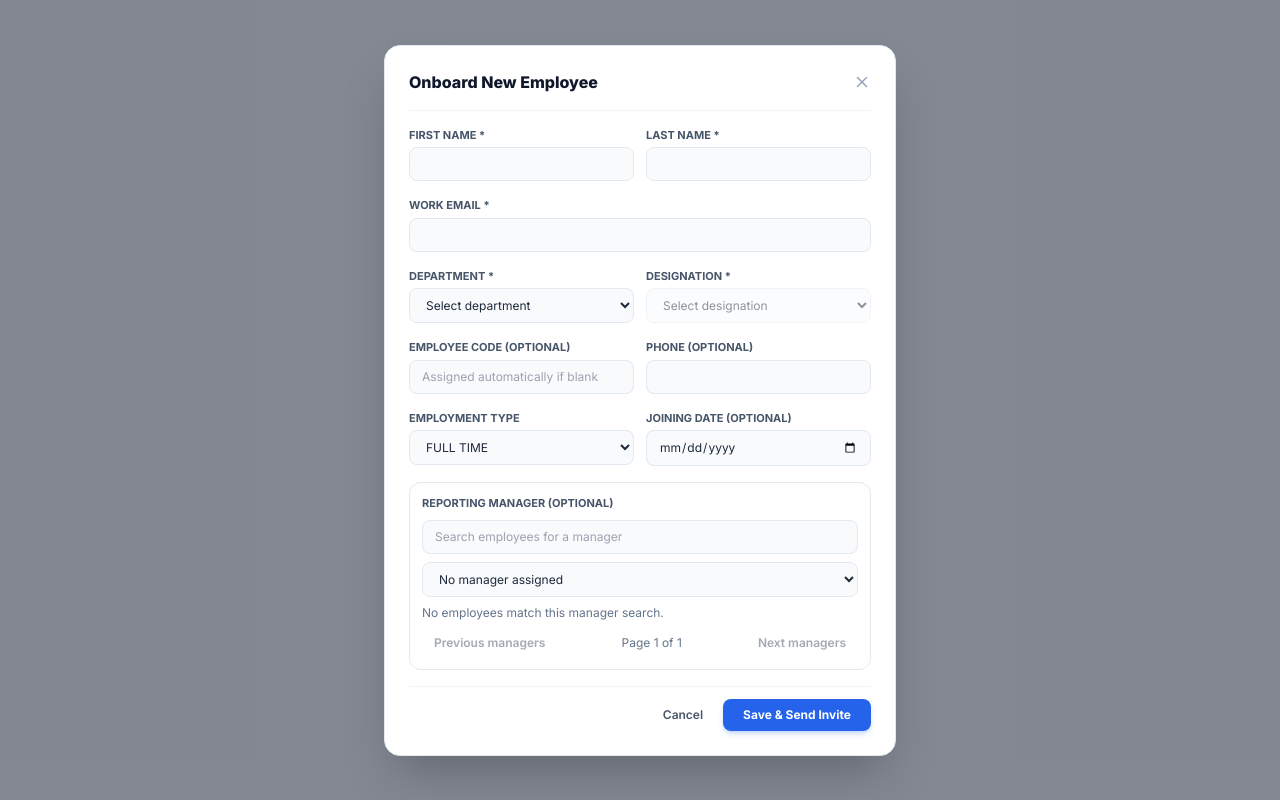
Test: Employee creation and invitation (mocked HTTP) › posts real lookup IDs, normalizes input, locks duplicate submissions and waits for confirmation
Type " New " into the field labelled "First Name *".
click(522, 164); type(" New ")  # box [409,147,634,181]
Type "Person" into the field labelled "Last Name *".
click(758, 164); type("Person")  # box [646,147,871,181]
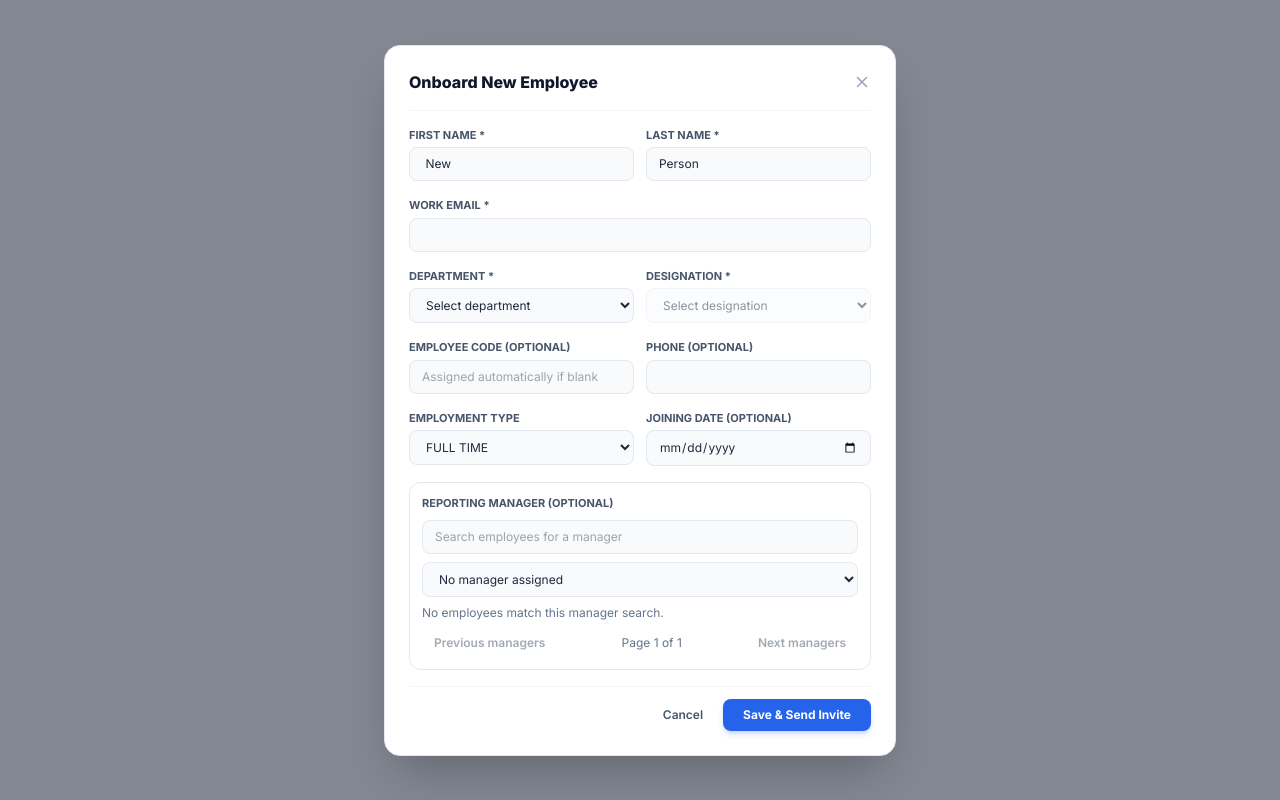
Type "NEW@example.com" into the field labelled "Work Email *".
click(640, 234); type("NEW@example.com")  # box [409,218,871,252]
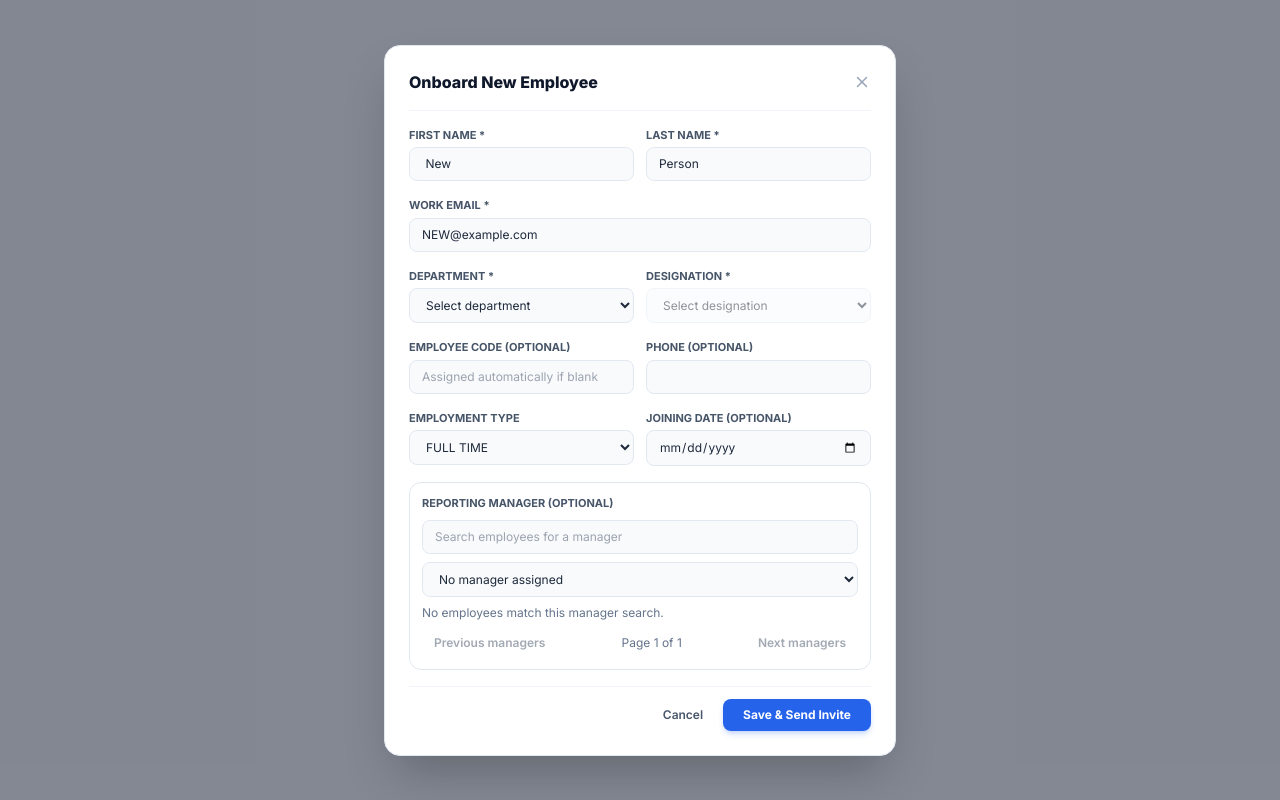
Select "Engineering" in the dropdown labelled "Department *" at (522, 306), box [409,288,634,323]
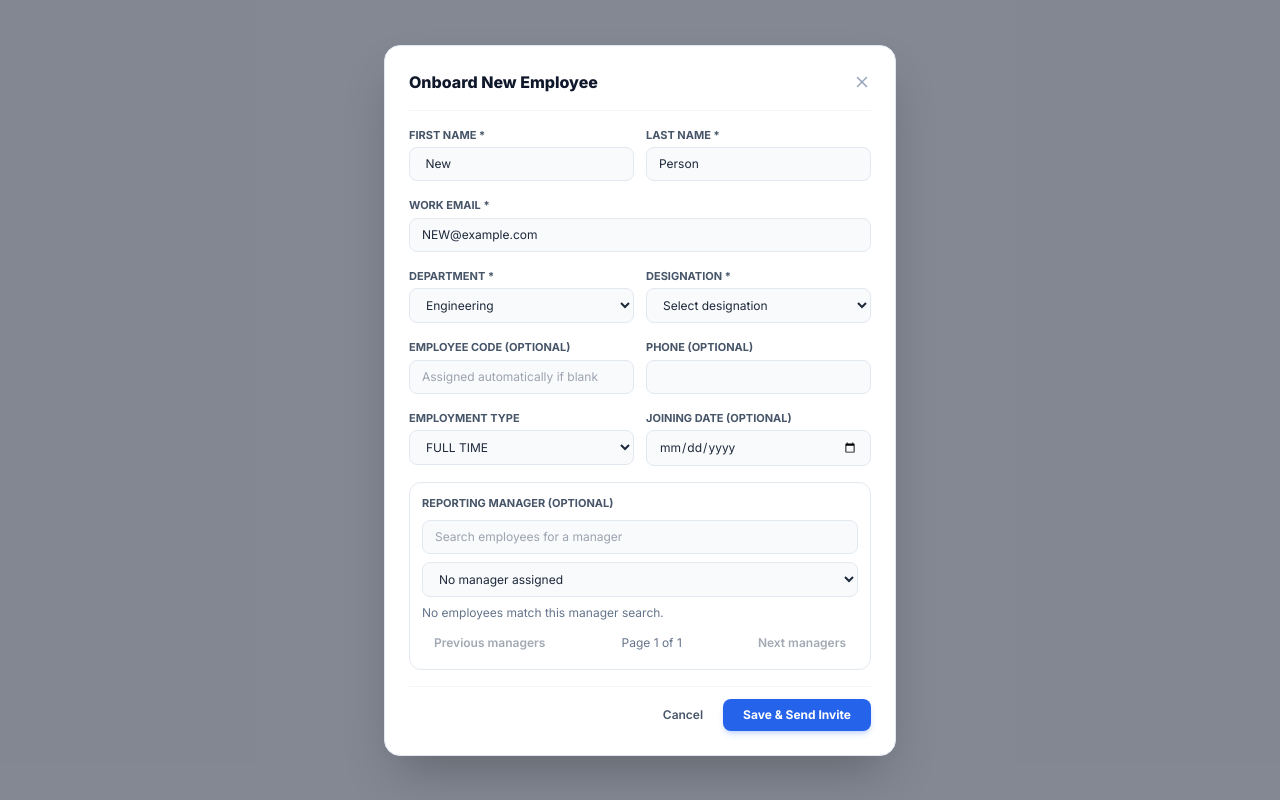
Select "Engineer" in the dropdown labelled "Designation *" at (758, 306), box [646,288,871,323]
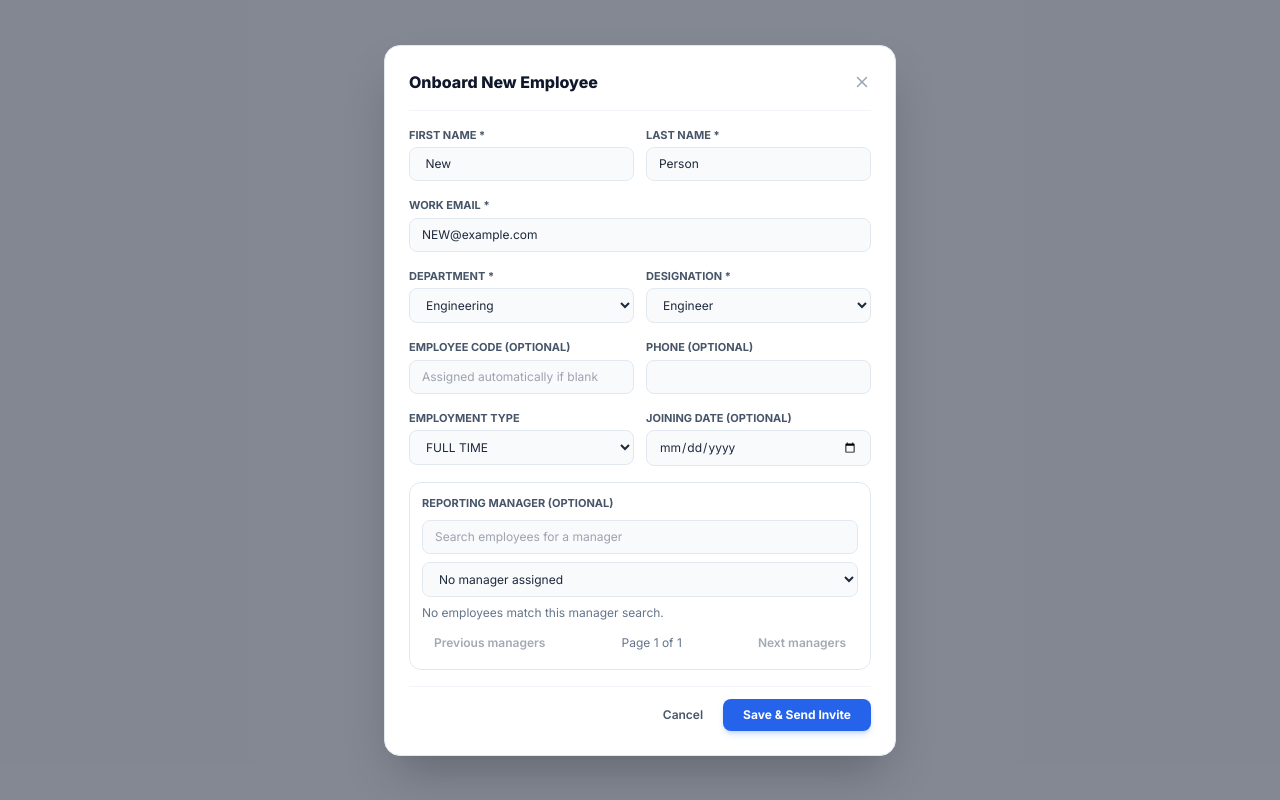
Click the button "Save & Send Invite".
click(797, 714)  # box [723,698,871,730]
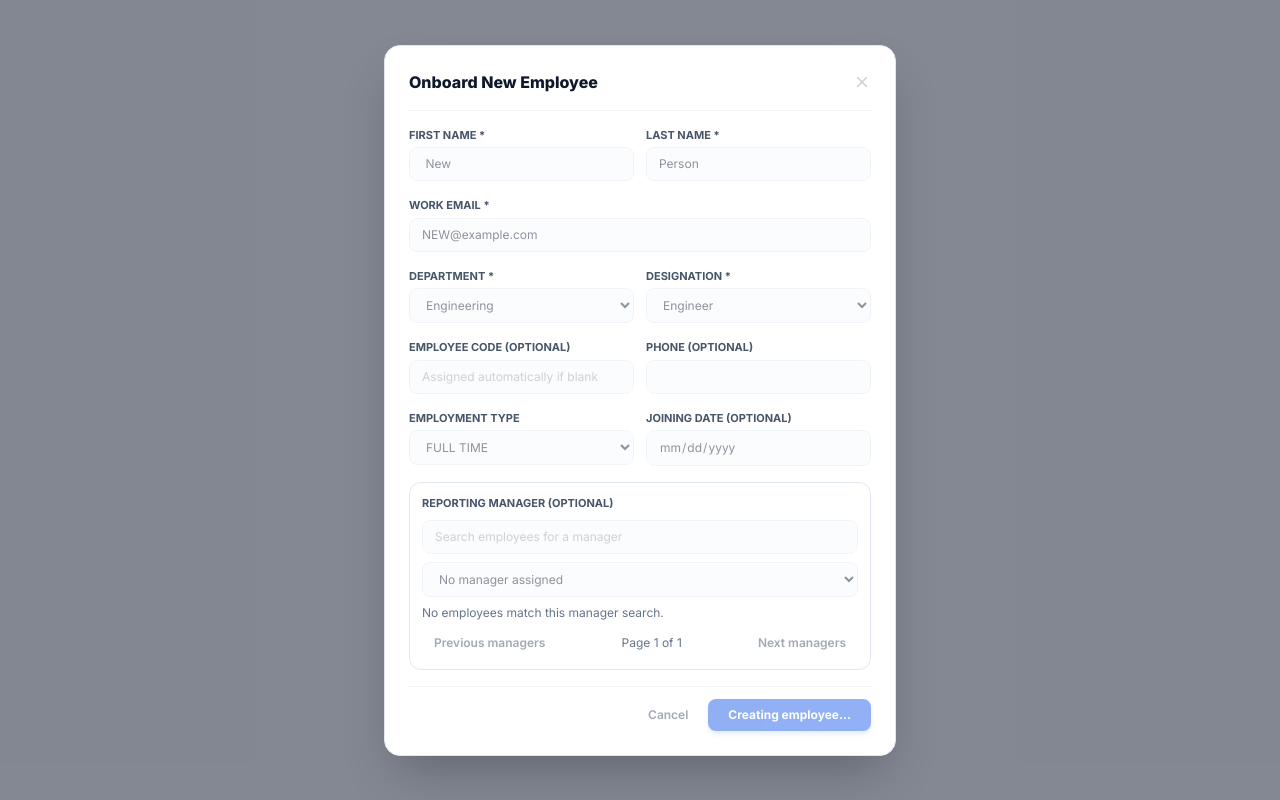
Result: the button "Creating employee..." is disabled at [708,698,871,730]
Submit the form labelled "First Name *", box [409,126,871,730]
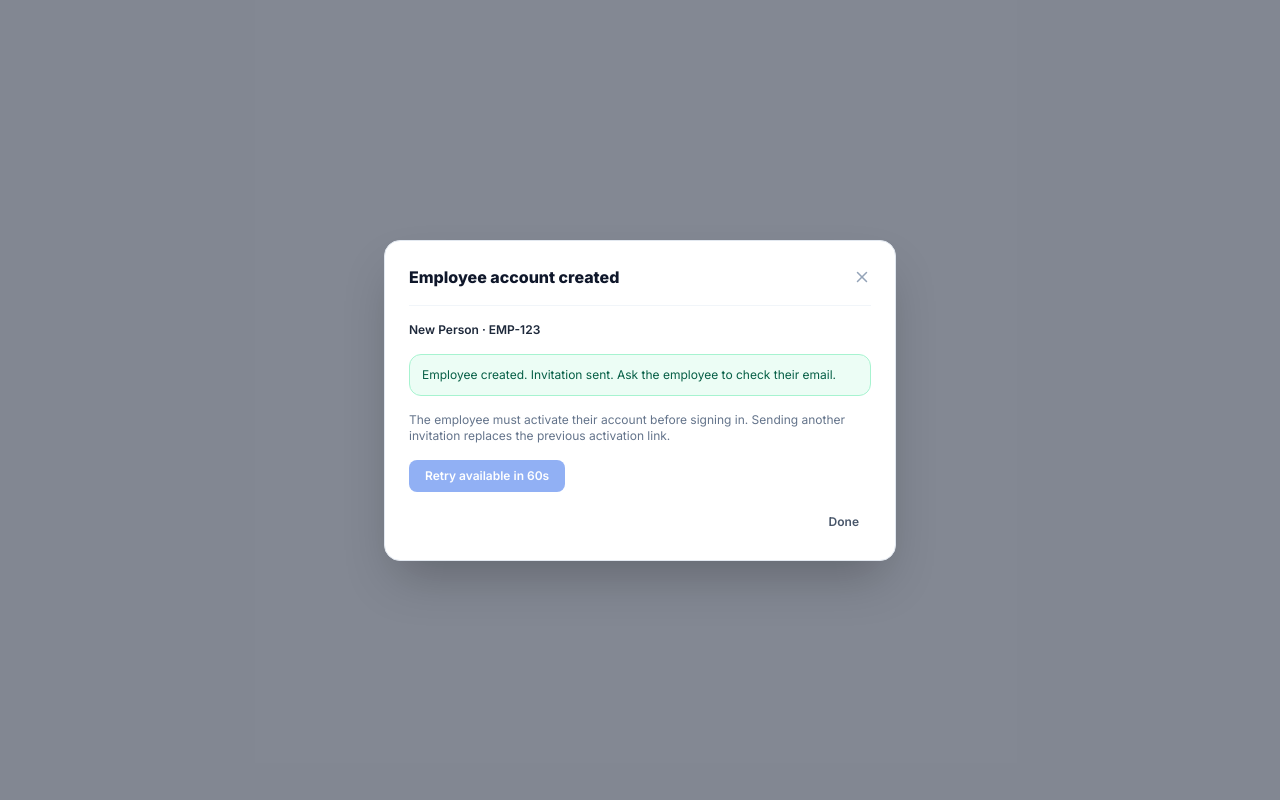
Result: the text "Employee created. Invitation sent. Ask the employee to check their email." is shown at [409,354,871,396]
